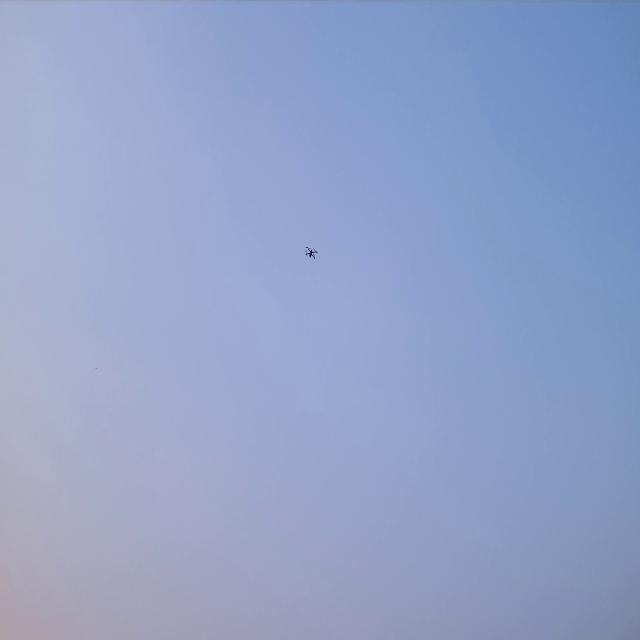UAV: (304, 243, 318, 262)
